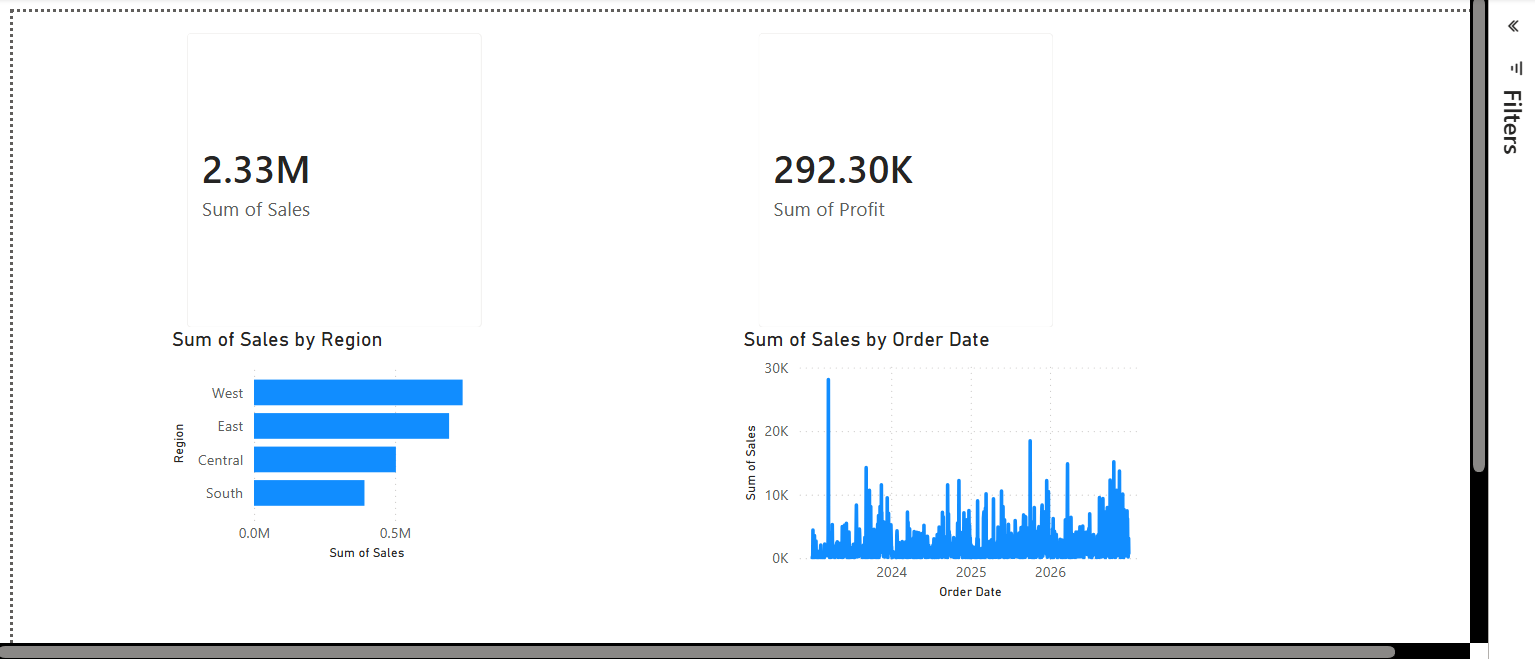

What the dashboard file says about the page in this screenshot:
{"tool":"powerbi","page":{"name":"Page 1","canvas":[1280,720],"ordinal":0},"visuals":[{"type":"cardVisual","fields":{"Data":["Sum(Orders.Sales)"]},"box":[127.5,0,280,280],"z":0},{"type":"cardVisual","fields":{"Data":["Sum(Orders.Profit)"]},"box":[603.8,0,280,280],"z":1},{"type":"clusteredBarChart","fields":{"Category":["Orders.Region"],"Y":["Sum(Orders.Sales)"]},"box":[127.5,262.5,280,198.8],"z":2},{"type":"lineChart","fields":{"Category":["Orders.Order Date"],"Y":["Sum(Orders.Sales)"]},"box":[603.8,262.5,343.8,231.2],"z":3}]}

Visuals, with their boxes on the page's 1280x720 design canvas (x1, y1, x2, y2). These are canvas units, not pixel positions in the 1535x659 screenshot, which may show the page scaled, cropped or inside an application window:
cardVisual - Sum(Orders.Sales): (128,0,408,280)
cardVisual - Sum(Orders.Profit): (604,0,884,280)
clusteredBarChart - Orders.Region x Sum(Orders.Sales): (128,262,408,461)
lineChart - Orders.Order Date x Sum(Orders.Sales): (604,262,948,494)
